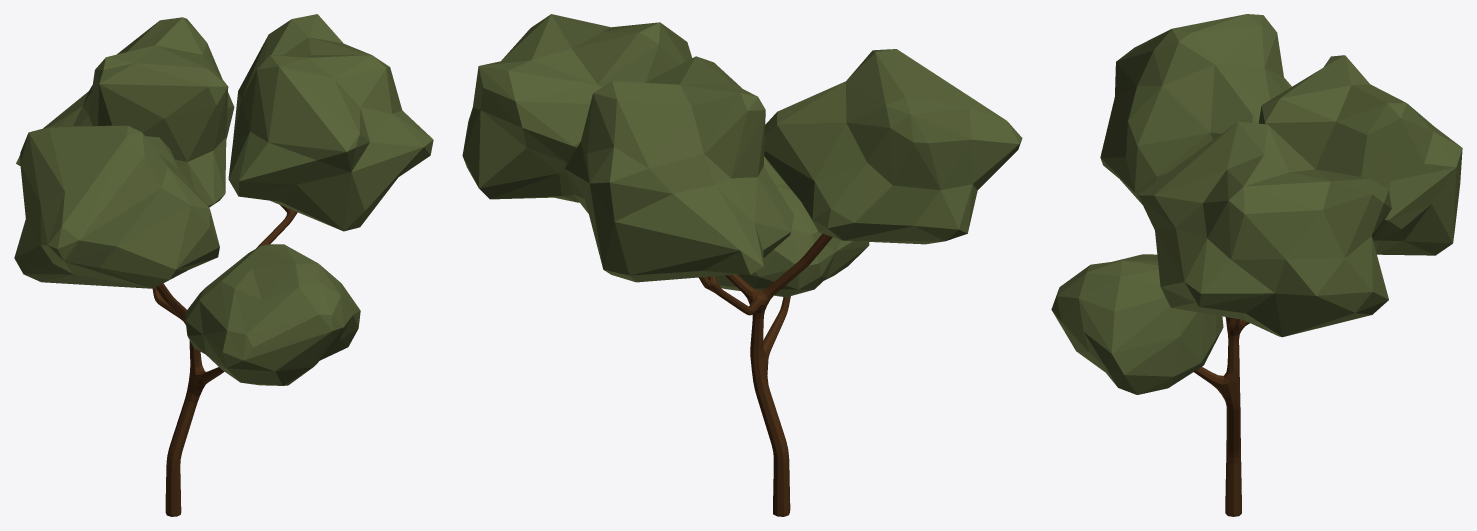
Rendered from tree_02.fbx.
3 views of the same model, side by side, from view 1: azimuth 30°, elevation 25°; view 2: azimuth 150°, elevation 25°; view 3: azimuth 270°, elevation 25° (orthographic). The views are drawn at different scales.
Visible parts, largest first — view 1: Tree_02; view 2: Tree_02; view 3: Tree_02.
Boxes of the visible parts, x1,y1,x2,y2 form: Tree_02: [14, 14, 433, 516]; Tree_02: [462, 14, 1022, 516]; Tree_02: [1051, 14, 1462, 516].
Bounding box in the file's own units: 655 × 640 × 526.
